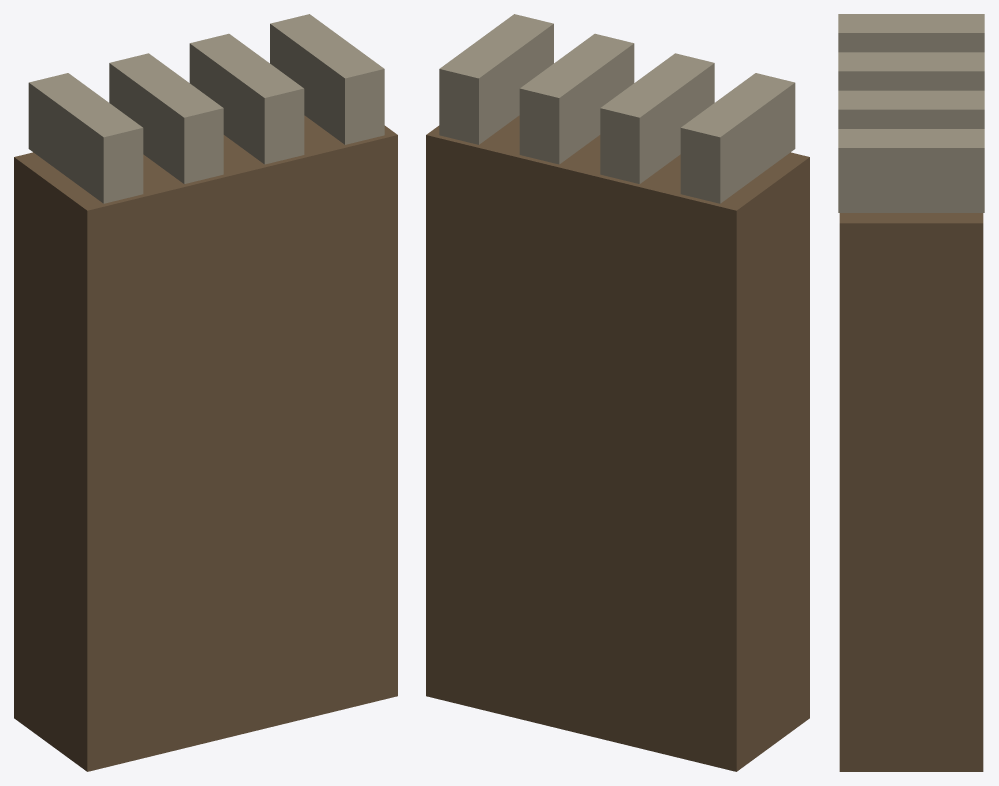
File: b-palisade-english.glb
The picture shows the model from 3 angles, left to right: view 1: azimuth 30°, elevation 25°; view 2: azimuth 150°, elevation 25°; view 3: azimuth 270°, elevation 25°; orthographic projection. The views are drawn at different scales.
Parts seen in each view (by area): view 1: Structure; view 2: Structure; view 3: Structure.
Part boxes in pixels (box(x1,y1,x2,y2)): Structure: box(14, 14, 397, 771); Structure: box(426, 14, 809, 771); Structure: box(838, 14, 984, 771).
Size of the model in its own units: 2.2 by 4.28 by 0.92.
